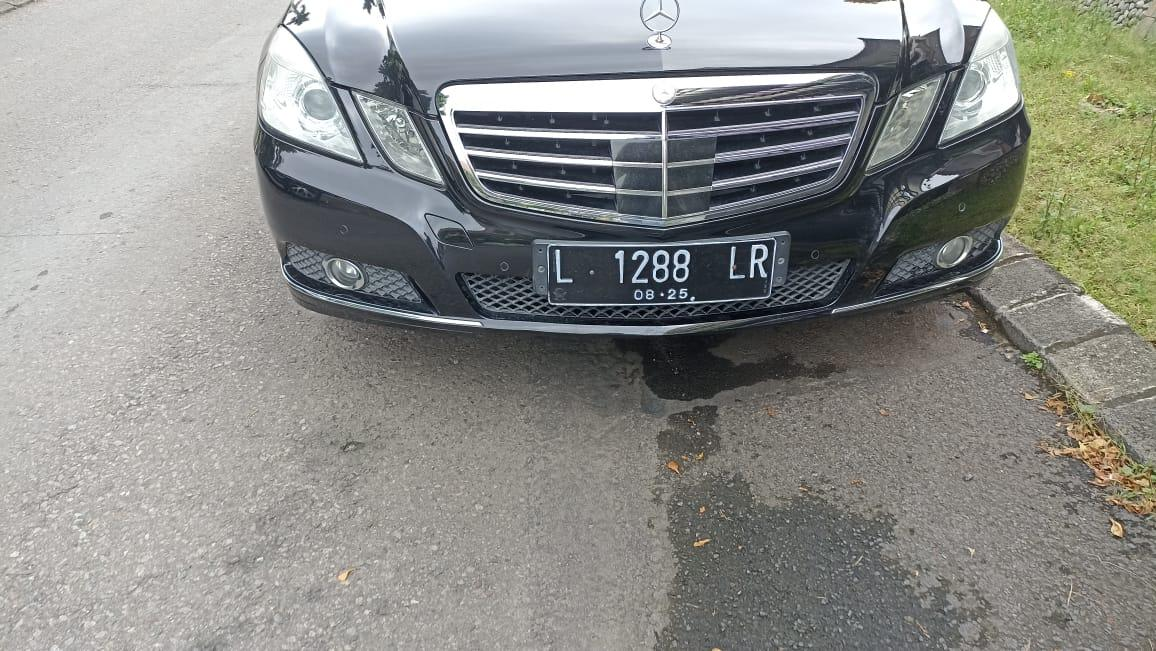plat: (551, 238, 777, 305)
